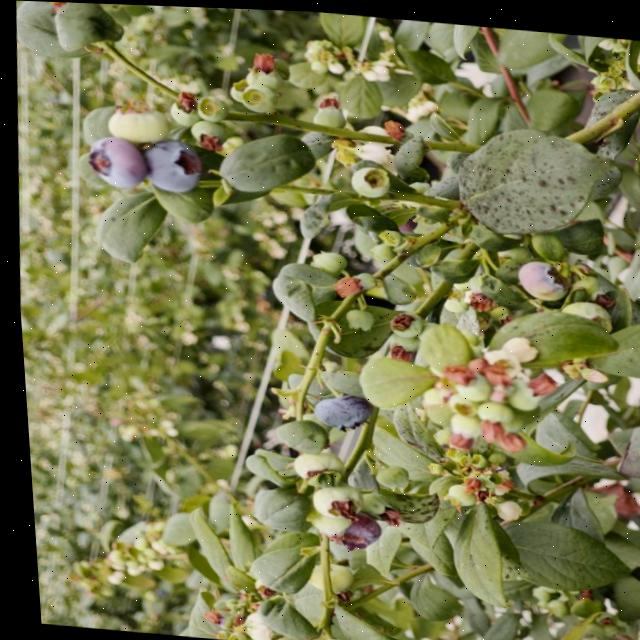RipeBlueBerry: (138, 134, 202, 193), (306, 388, 370, 431)
Semi-RipeBlueBerry: (82, 131, 147, 190), (511, 252, 567, 299)
UnripeBlueBerry: (106, 100, 170, 143)
